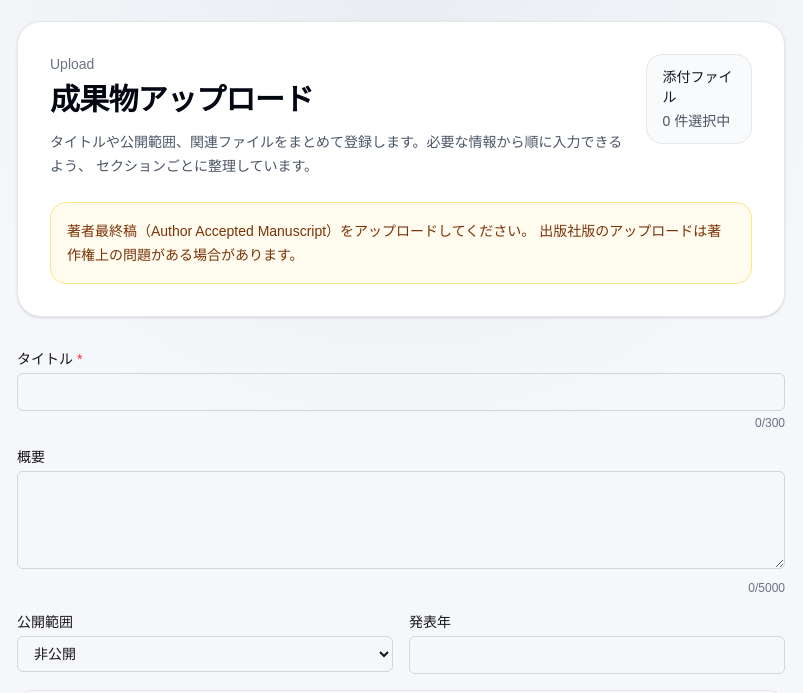
UploadPage › validates that at least one file is attached
Type "My paper" into the field labelled "タイトル *" at (401, 392), box [17, 373, 785, 411]
(page scrolled)
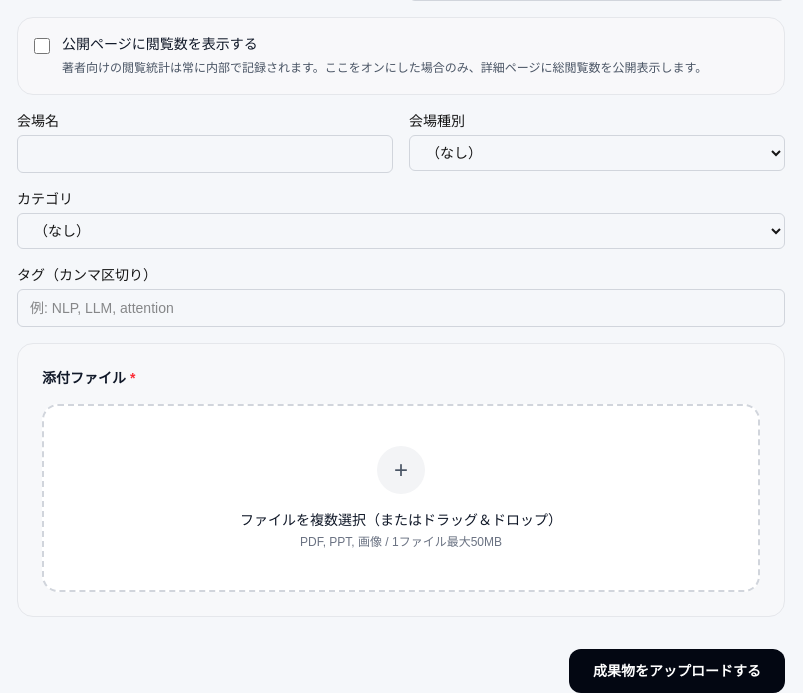
Click the button "成果物をアップロードする" at (677, 671), box [569, 649, 785, 692]
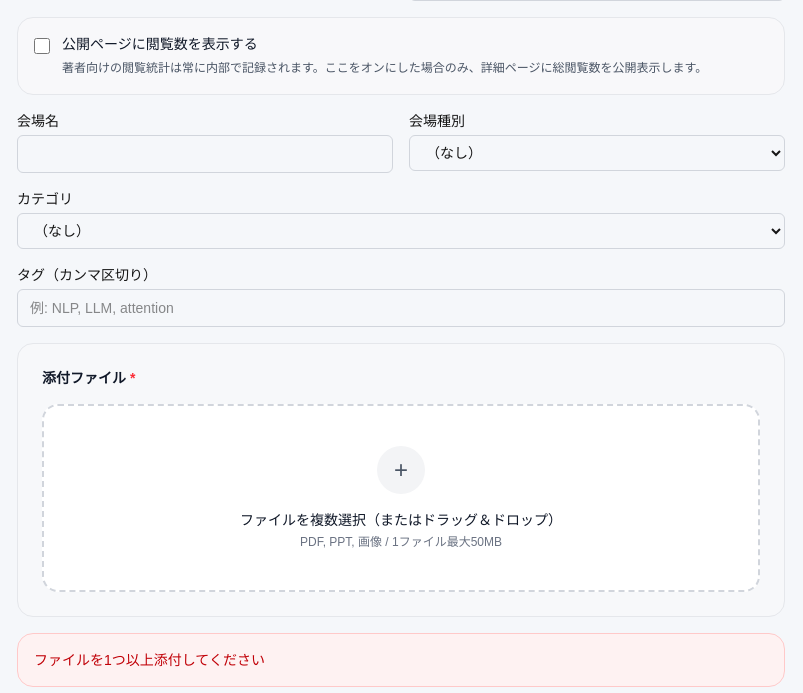
Check: the text "ファイルを1つ以上添付してください" is shown, box [17, 633, 785, 687]
